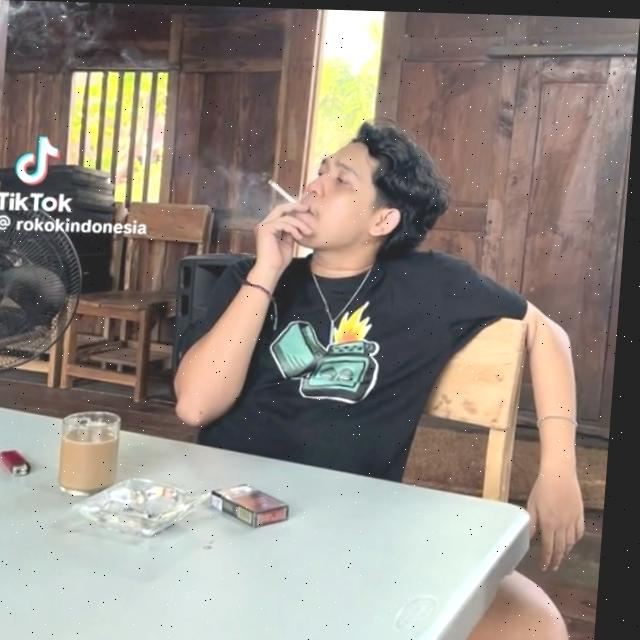cigarette: (269, 177, 302, 201)
